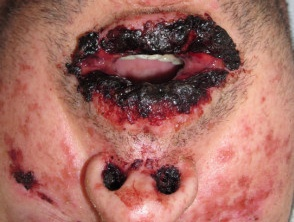SJS-TEN: (58, 0, 253, 159), (92, 141, 185, 207), (0, 132, 71, 216)
